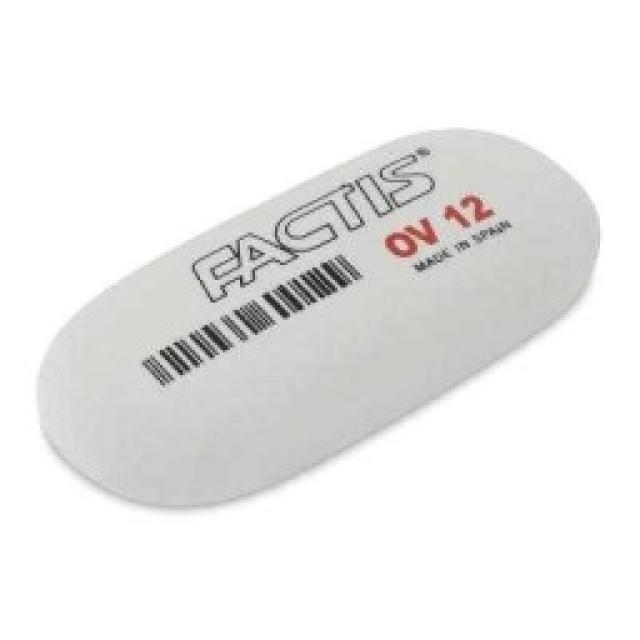Silgi: (35, 123, 604, 510)
